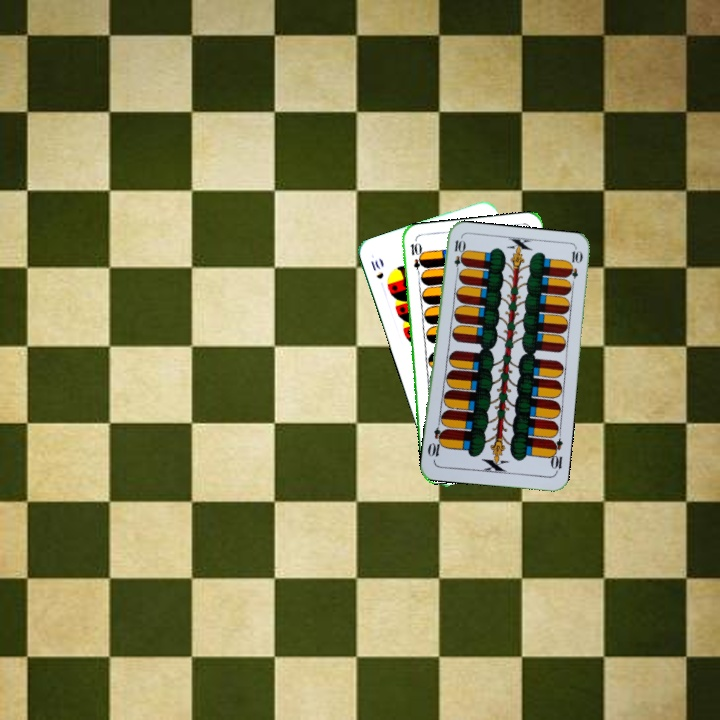E10: (546, 435, 565, 476), (407, 239, 424, 279), (450, 236, 465, 277)
S10: (367, 256, 386, 282)
